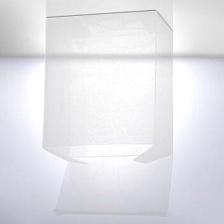plastic_box: (31, 4, 181, 223)
